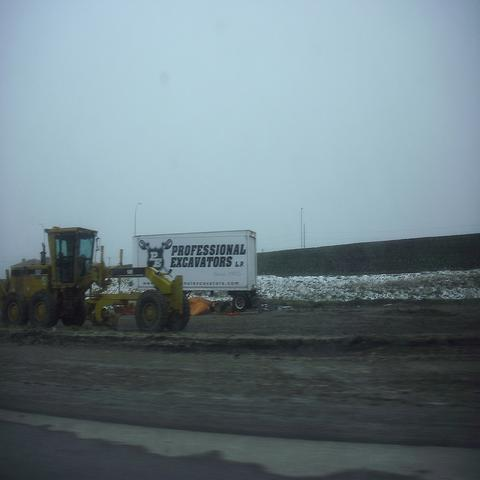truck: (3, 228, 193, 334), (132, 230, 258, 312)
